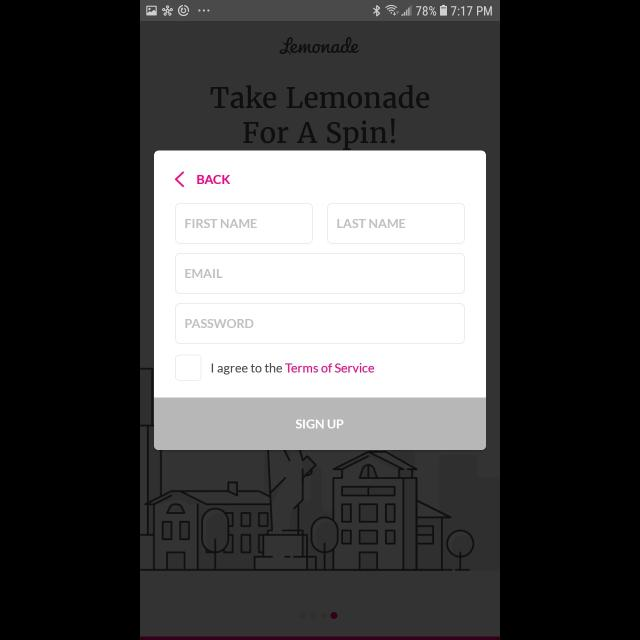checkbox: (175, 355, 201, 381)
icon: (175, 172, 185, 188)
input: (175, 253, 465, 294), (175, 304, 465, 344), (327, 203, 465, 244), (175, 203, 313, 244)
pageindicator: (298, 612, 338, 620)
panel: (154, 150, 486, 450)
text: (210, 85, 430, 149), (212, 363, 374, 375), (280, 37, 360, 55), (186, 220, 258, 228), (337, 220, 405, 228), (186, 320, 254, 328), (185, 270, 222, 278), (198, 176, 230, 184)
textbutton: (154, 398, 486, 450)
uppertaskbar: (140, 1, 500, 22)
